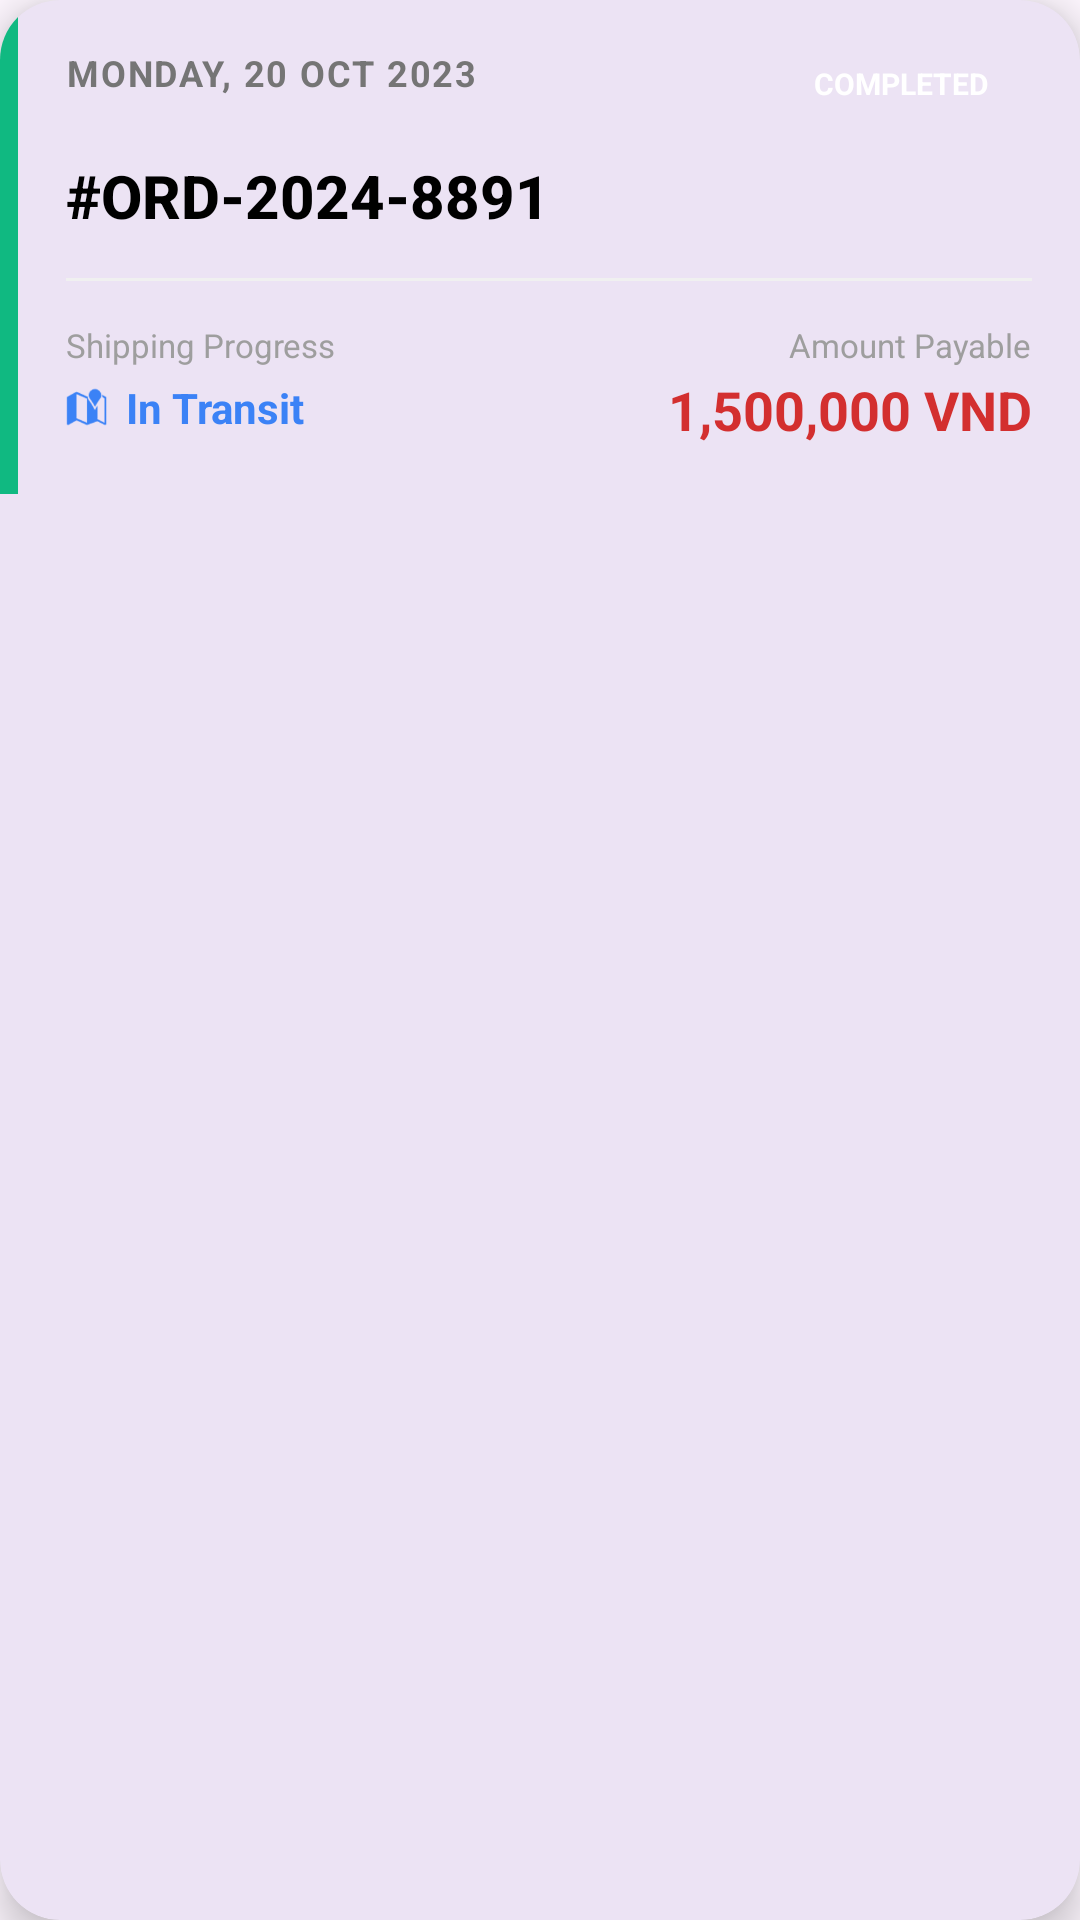

Point at icon controls on the screen. Image size 1080px×1920px, points as [x,y].
map: [86,406]
